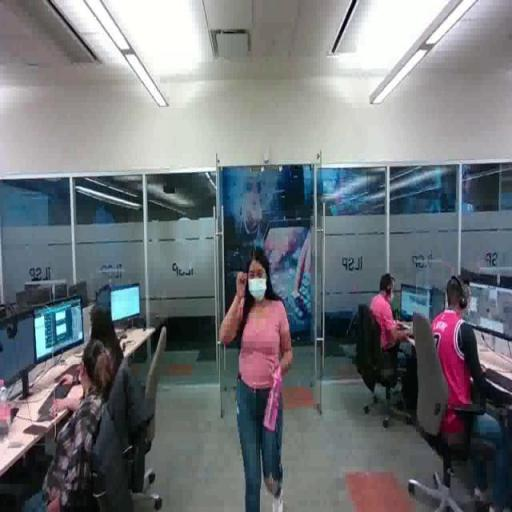person: (425, 270, 512, 512), (222, 250, 290, 512), (30, 340, 127, 512), (67, 304, 141, 468), (363, 267, 431, 419)
